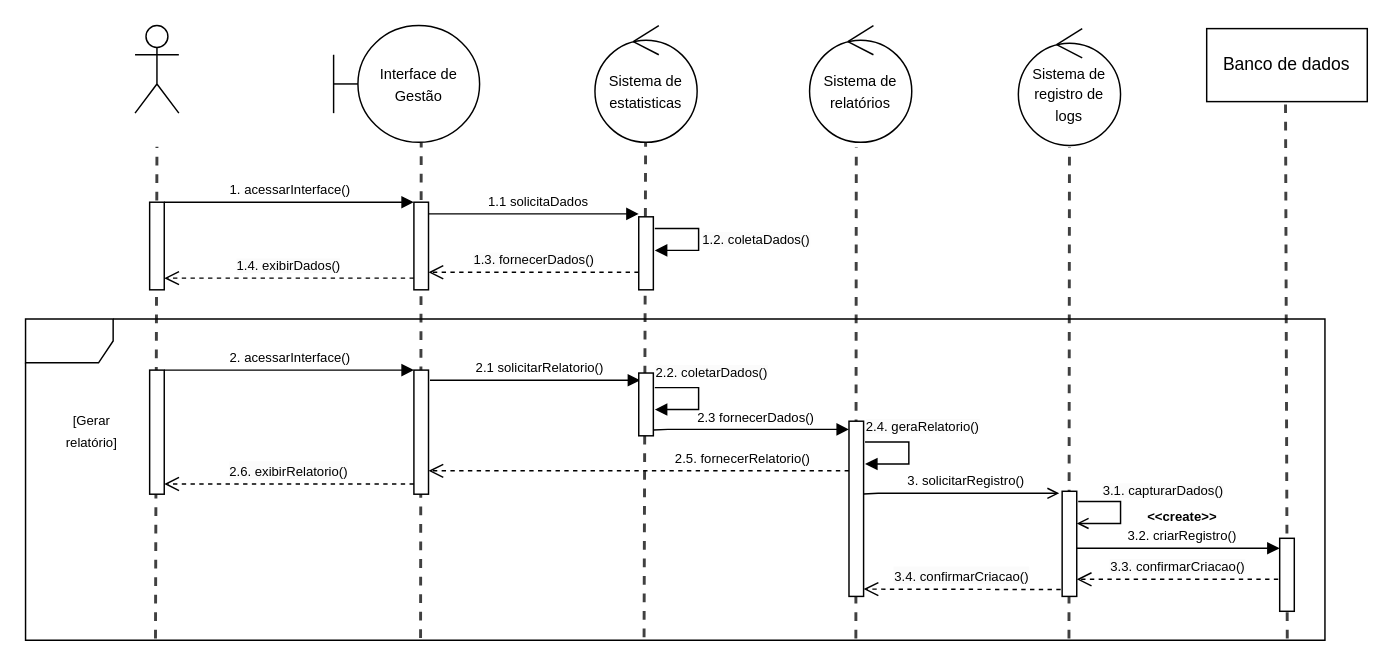
Some shapes in this 1393 by 667 pixel diagram are drawn without their labels. Each missing label, with the box of its shape:
Gestor administrativo: (134, 24, 179, 113)
opt: (24, 318, 1325, 640)
